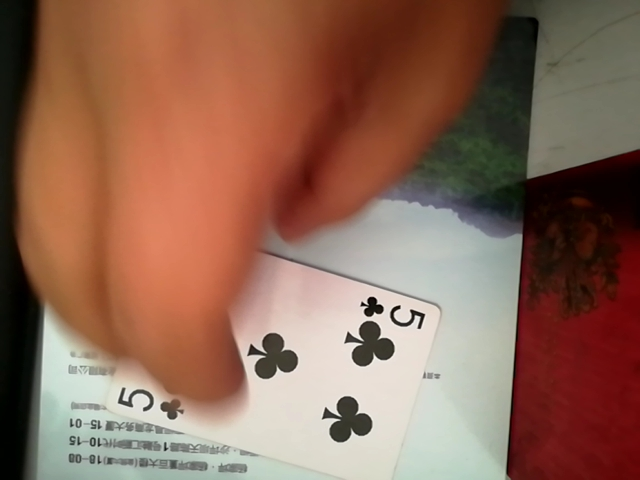mh 6: (214, 259, 437, 472)
